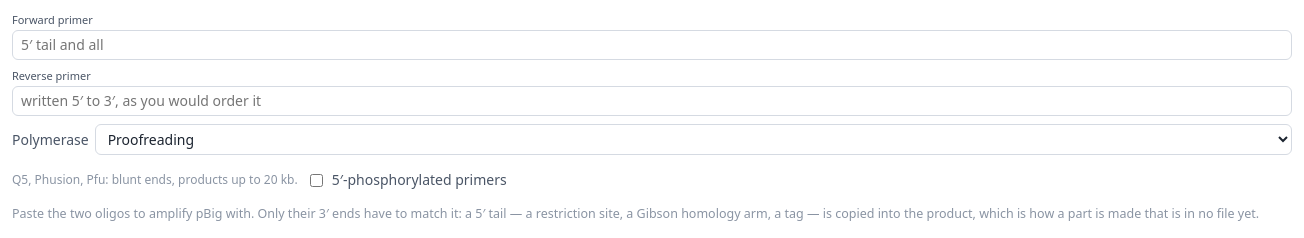
it: PcrPanel, PCR II › offers both polymerases, proofreading first, and says what each does under it
Check: the text "Q5, Phusion, Pfu: blunt ends, products up to 20 kb." is shown, box 12,172 -> 298,189
Select "Taq" in the dropdown labelled "Polymerase": (693, 140) 95,124 -> 1292,156
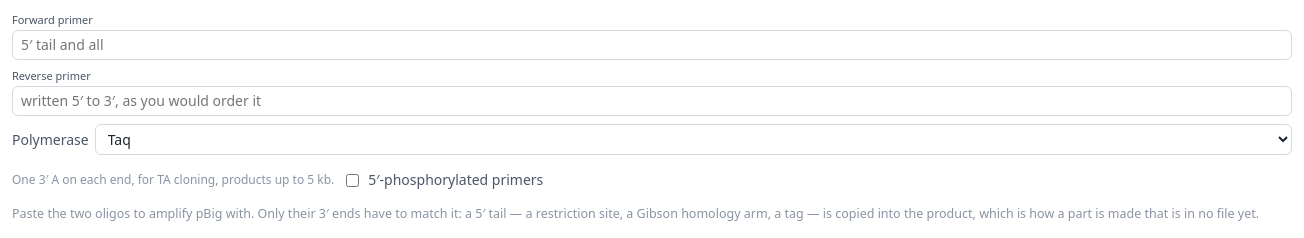
Check: the text "One 3′ A on each end, for TA cloning, products up to 5 kb." is shown, box 12,172 -> 334,189
